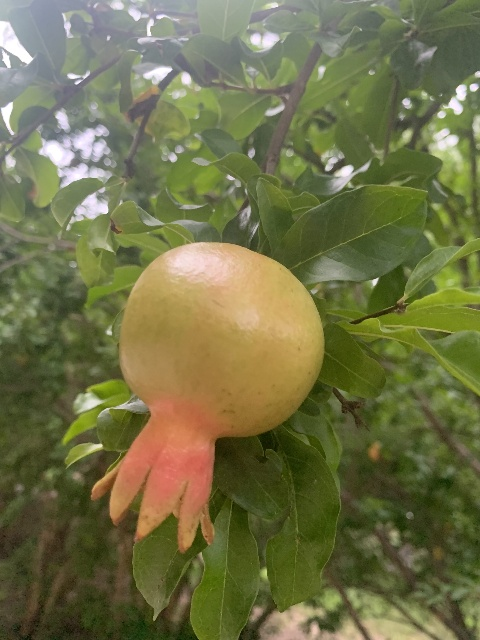mid-growth: (86, 239, 326, 552)
